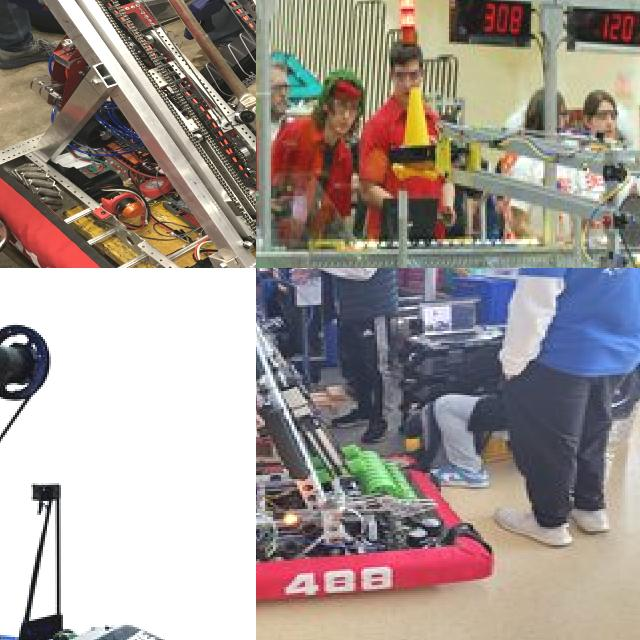FRC-Robots: (256, 268, 509, 608), (0, 0, 256, 268), (0, 319, 172, 640), (383, 79, 640, 268)
